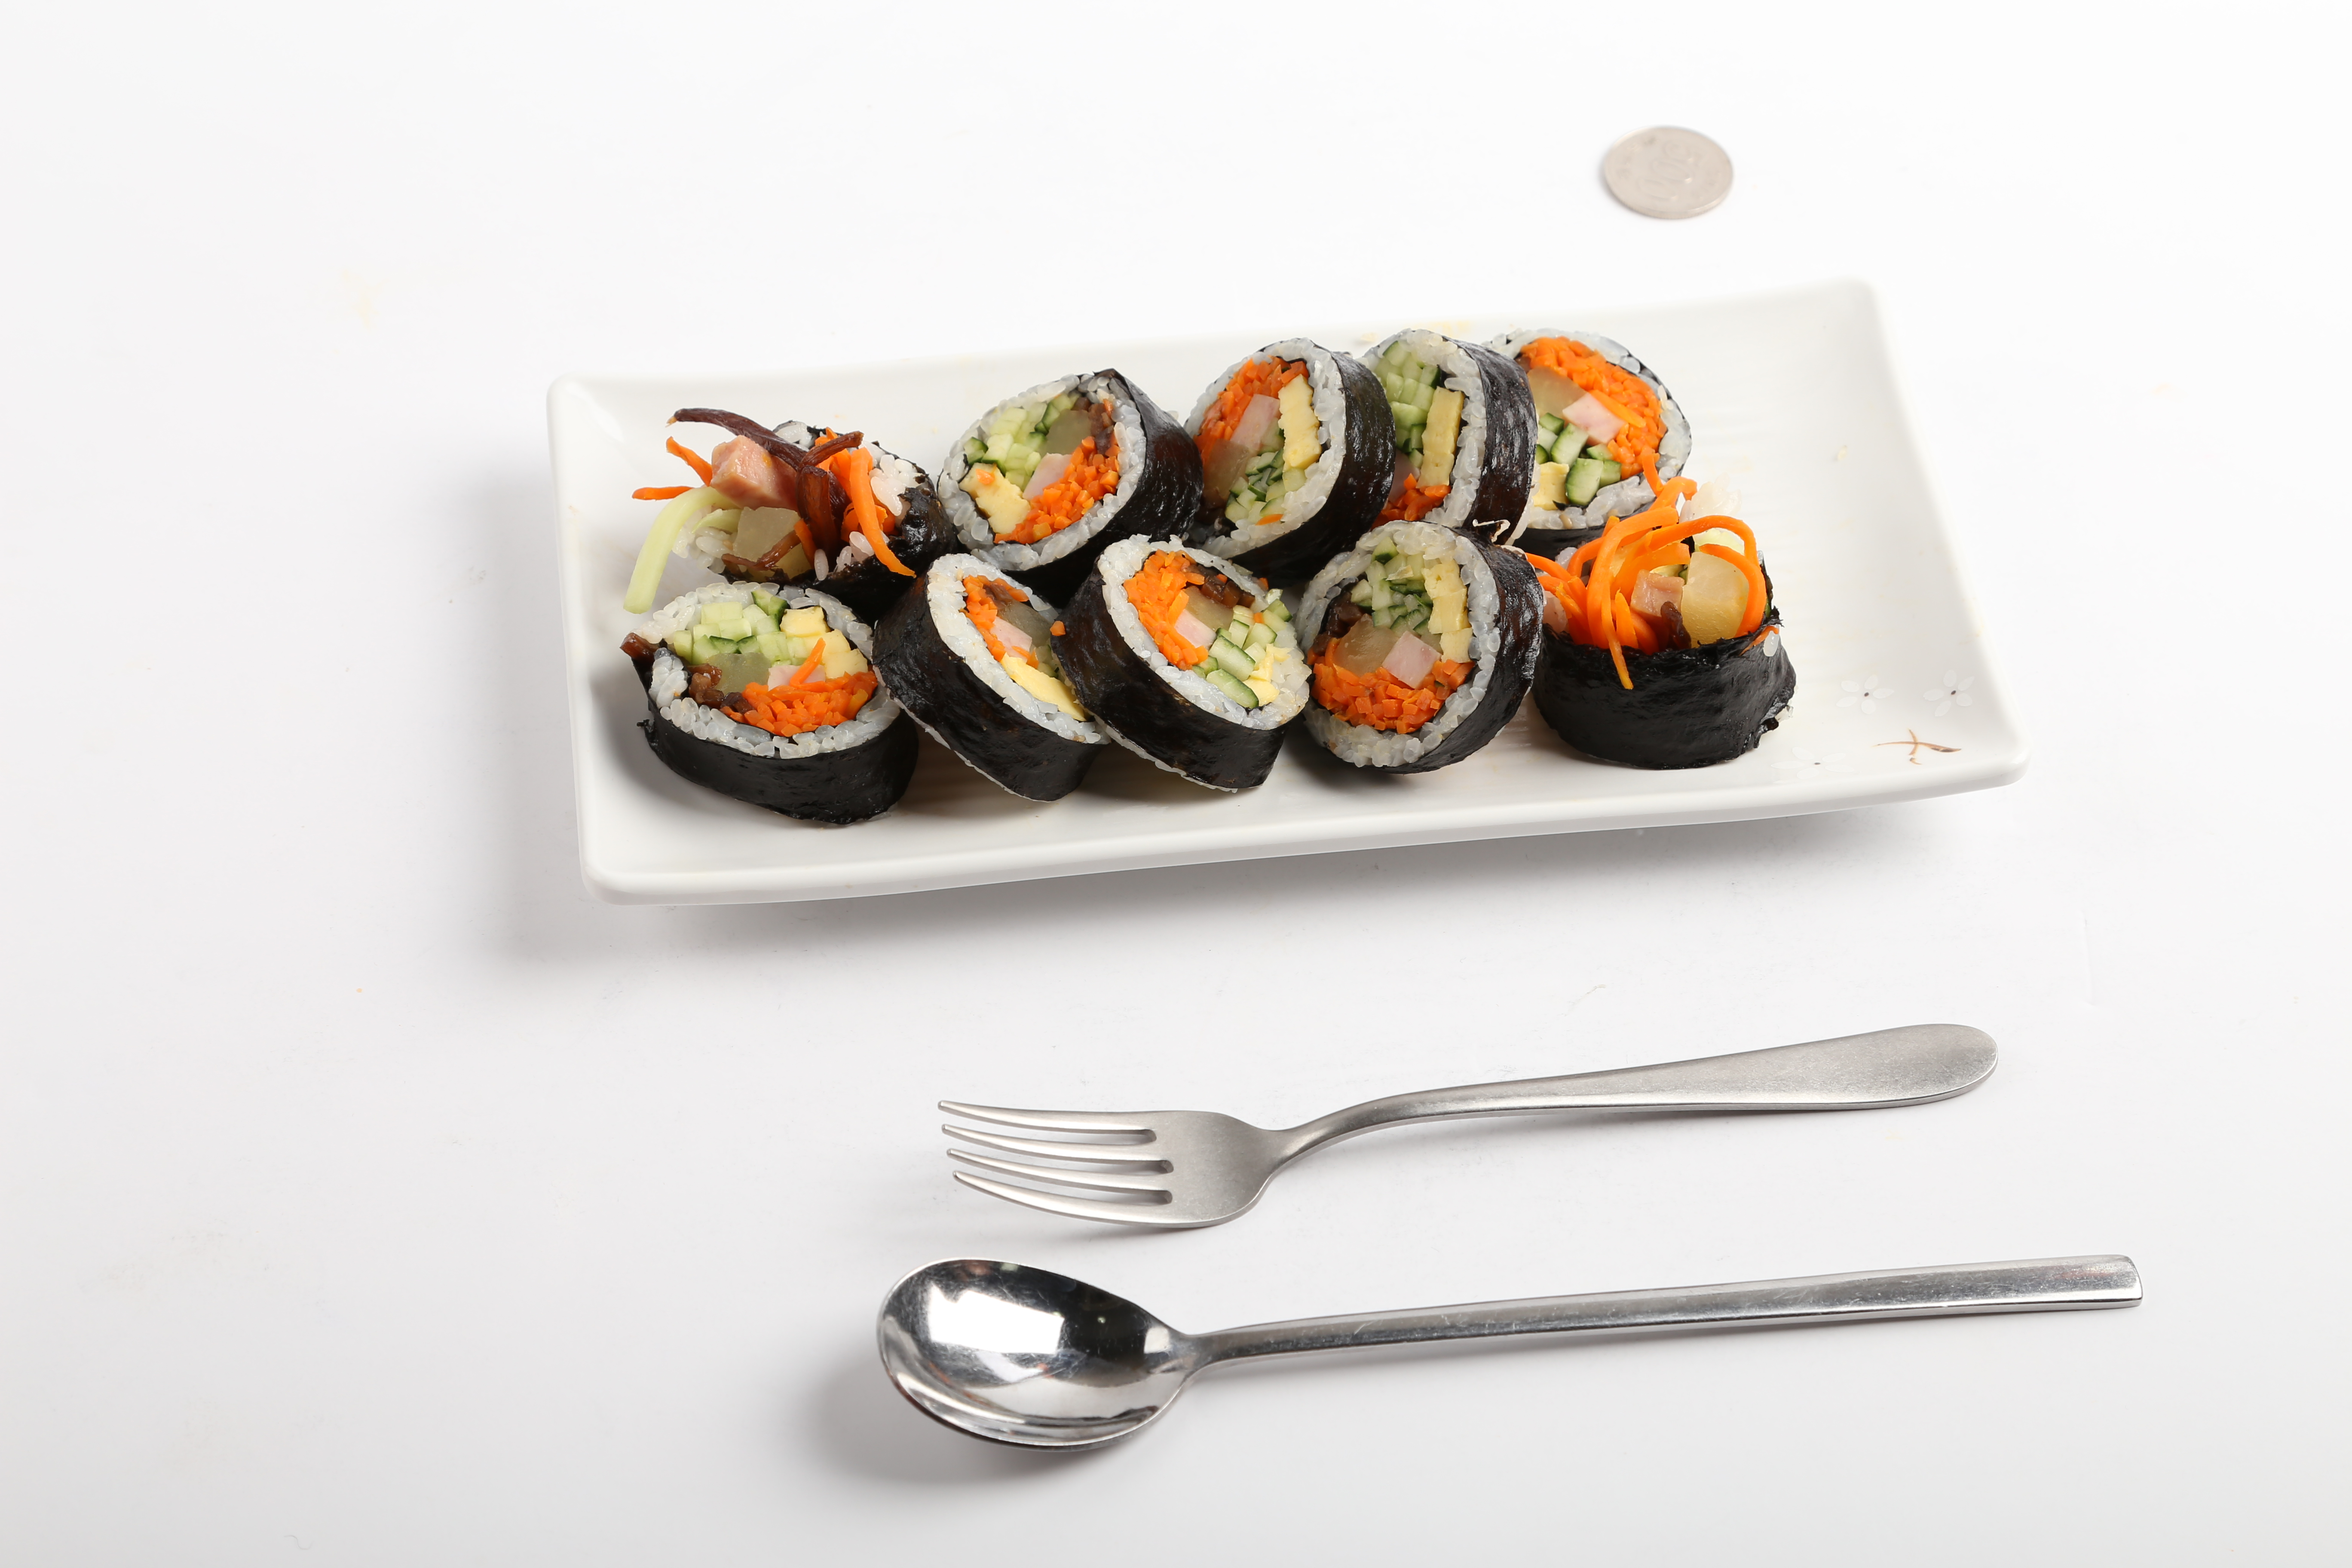dish: (544, 273, 2033, 912)
ref_coin: (1594, 121, 1739, 226)
ref_fork: (933, 1090, 1377, 1237)
ref_spoon: (870, 1256, 1272, 1456)
김밥: (628, 327, 1794, 826)
